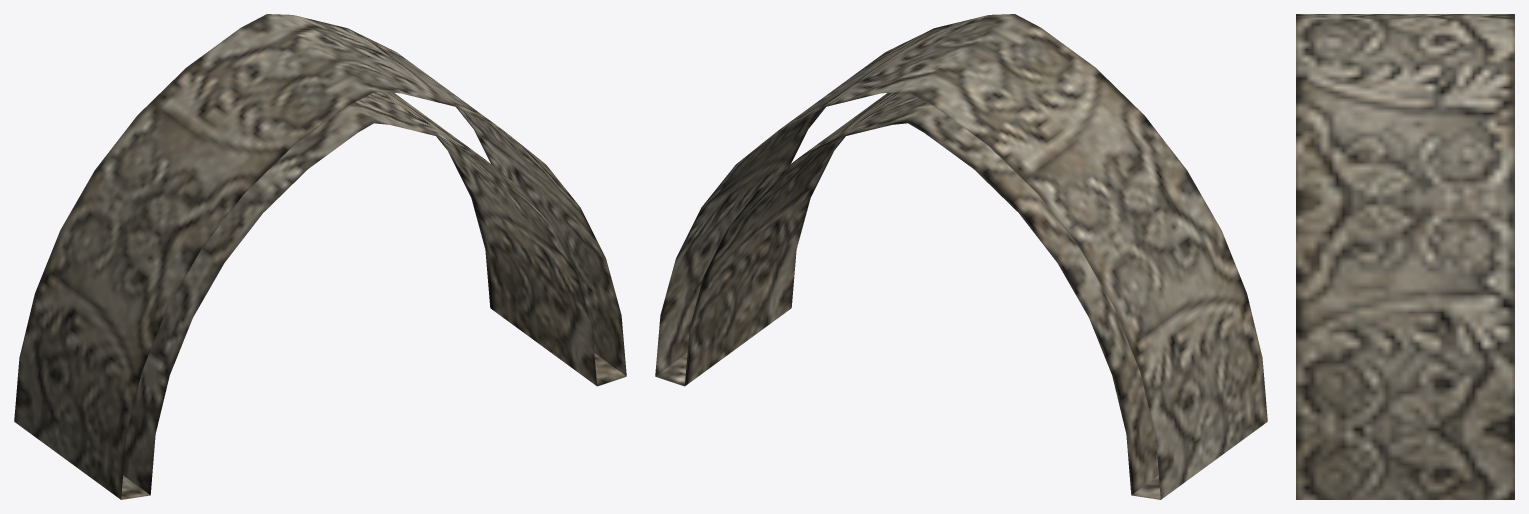
The model's file is SM_Plains_CastleArch_02.FBX.
The picture shows the model from 3 angles, left to right: view 1: azimuth 30°, elevation 25°; view 2: azimuth 150°, elevation 25°; view 3: azimuth 270°, elevation 25°; orthographic projection. The views are drawn at different scales.
Visible parts, largest first — view 1: SM_Plains_CastleArch_02; view 2: SM_Plains_CastleArch_02; view 3: SM_Plains_CastleArch_02.
Boxes of the visible parts, x1,y1,x2,y2 form: SM_Plains_CastleArch_02: [14, 14, 626, 499]; SM_Plains_CastleArch_02: [655, 14, 1267, 499]; SM_Plains_CastleArch_02: [1296, 14, 1514, 499].
Bounding box in the file's own units: 101 × 66.27 × 36.85.
